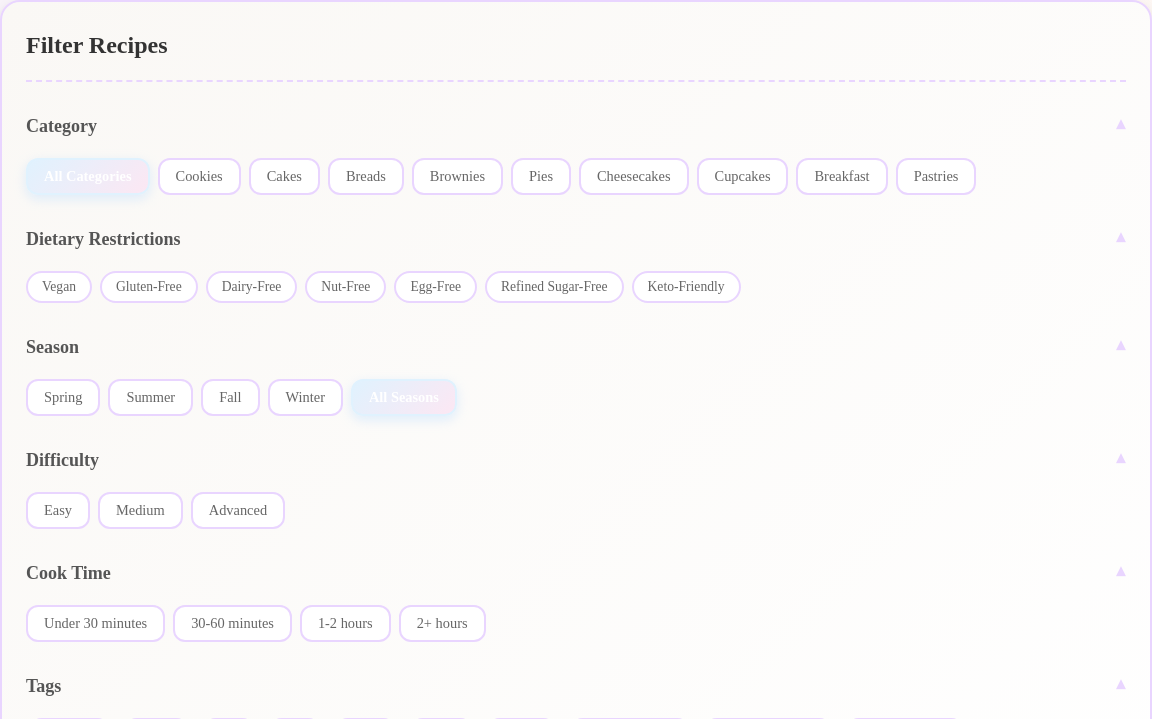
Scenario: RecipeFilters Component › should collapse season section when toggle clicked
Click to collapse (covers line 175)
Click the button with aria-label "toggle season filters".
click(53, 347)  # box [26,327,1126,367]
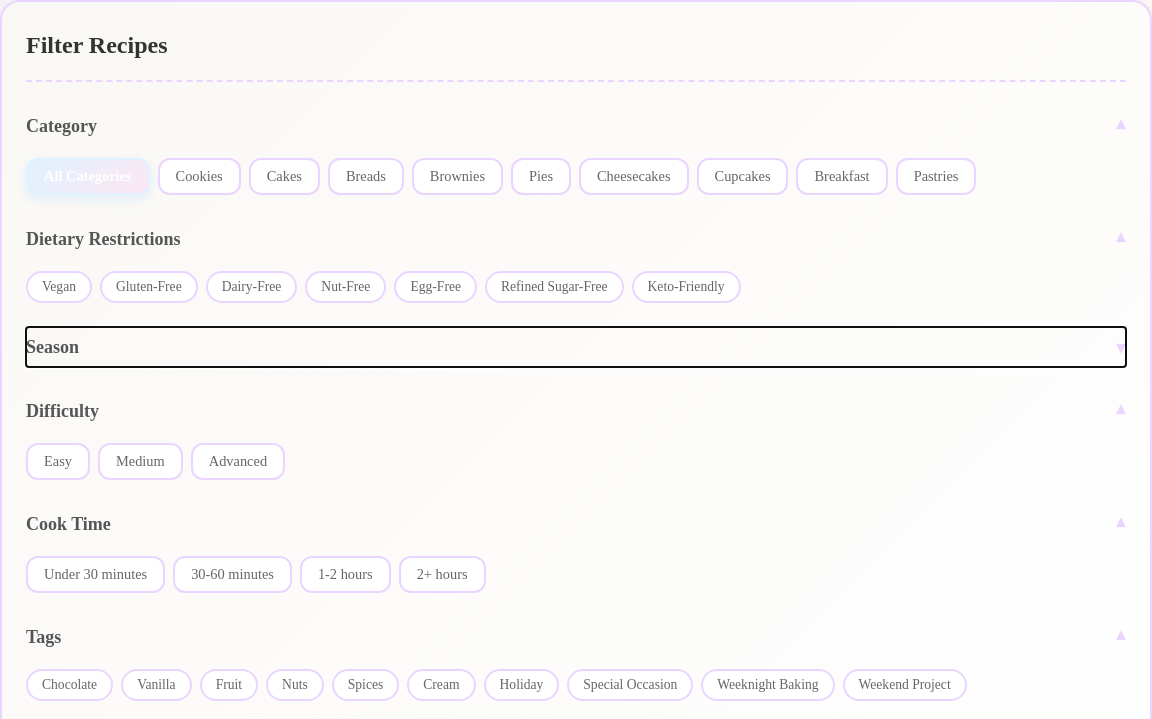
Result: the button "Fall" is gone
